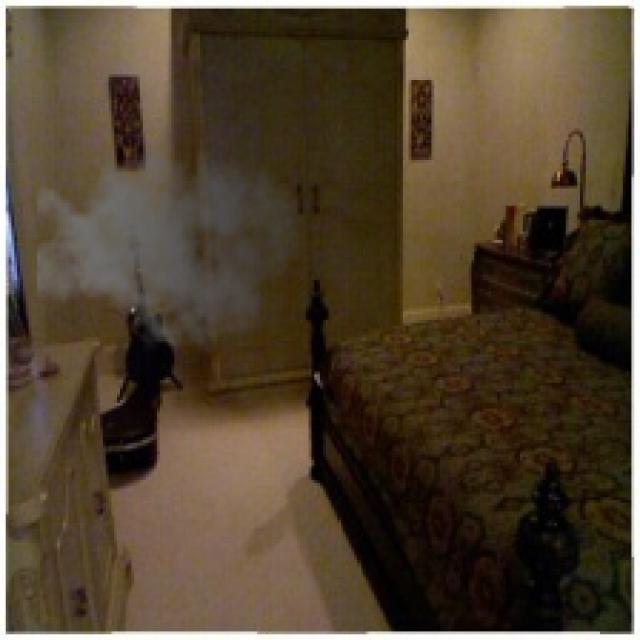Smoke: (37, 122, 306, 358)
